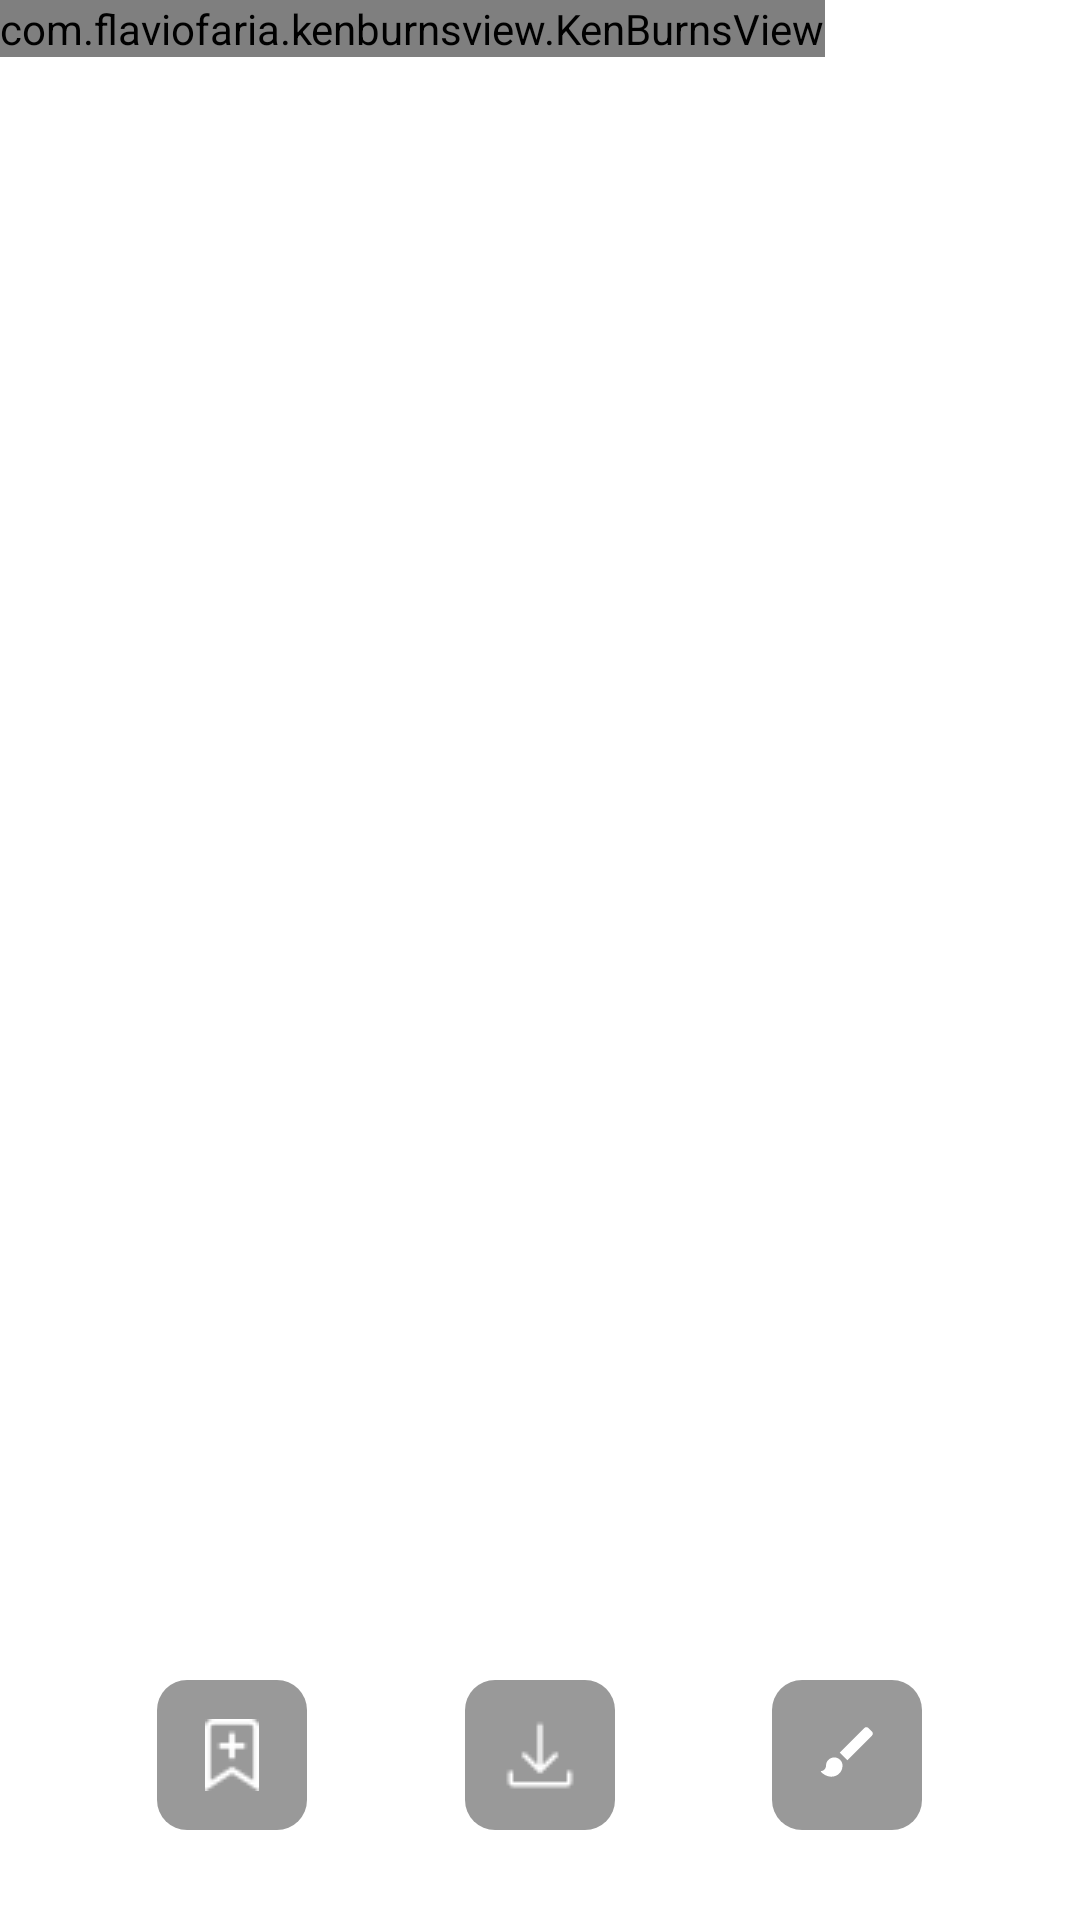

Icons on this 1080×1920 Android screen, each with the point to tap as (x=x, y=y):
download: (x=540, y=1755)
level bookmark: (x=232, y=1755)
